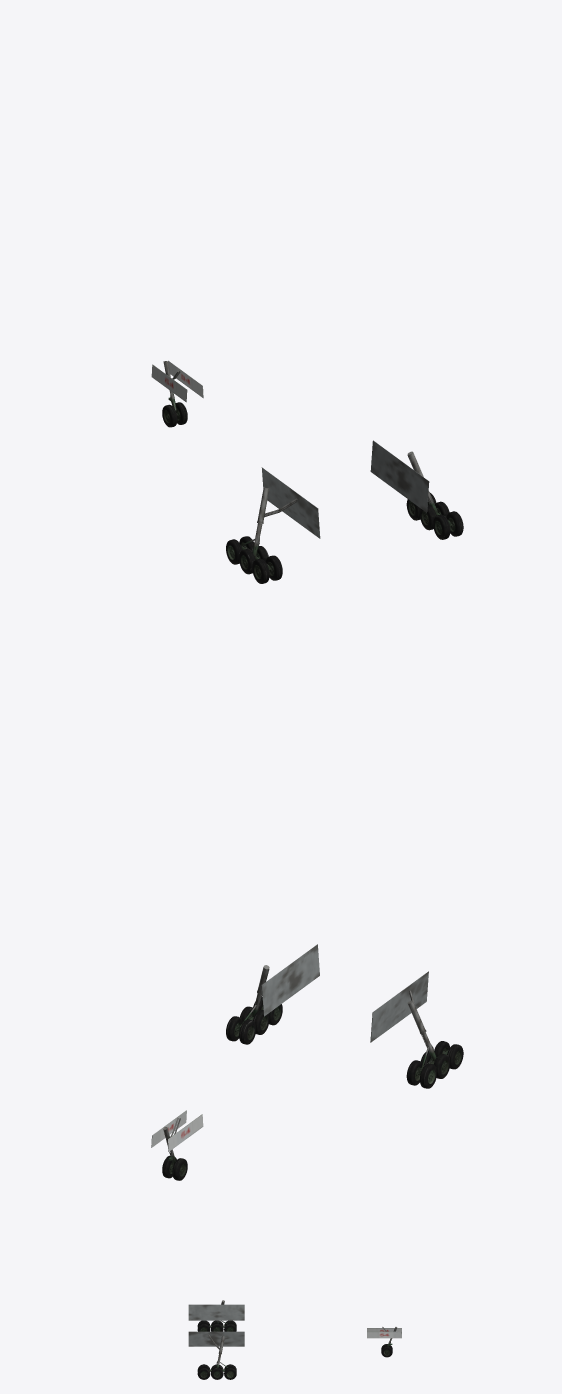
Rendered from tu22m3_gear.glb.
3 views of the same model, one above another, from view 1: azimuth 30°, elevation 25°; view 2: azimuth 150°, elevation 25°; view 3: azimuth 270°, elevation 25° (orthographic). The views are drawn at different scales.
Visible parts, largest first — view 1: door_m_r_g, door_m_l_g, gear_w_l, gear_w_r; view 2: door_m_r_g, door_m_l_g, gear_w_l, gear_w_r; view 3: door_m_l_g, door_m_r_g, gear_w_r, gear_w_l, door_n_r_g.
Part boxes in pixels (x1,y1,x2,y2): door_m_r_g: (370,440,429,512); door_m_l_g: (261,467,320,538); gear_w_l: (226,536,282,583); gear_w_r: (406,492,463,539); door_m_r_g: (261,944,319,1016); door_m_l_g: (370,971,428,1042); gear_w_l: (406,1041,463,1088); gear_w_r: (226,997,282,1044); door_m_l_g: (188,1304,244,1320); door_m_r_g: (188,1331,244,1346); gear_w_r: (197,1364,236,1379); gear_w_l: (197,1320,236,1331); door_n_r_g: (367,1331,401,1338).
Size of the model in its own units: 9.2 by 12.87 by 42.46.
Materials: 1 (1 with a texture image).
